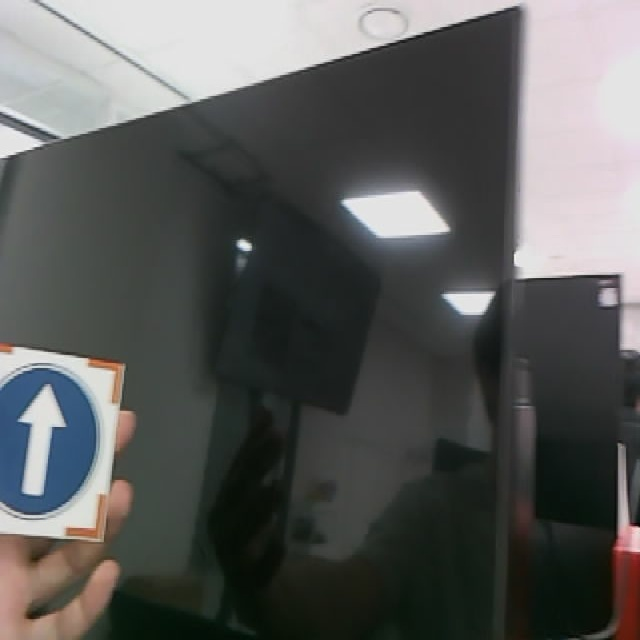strait: (1, 342, 126, 544)
